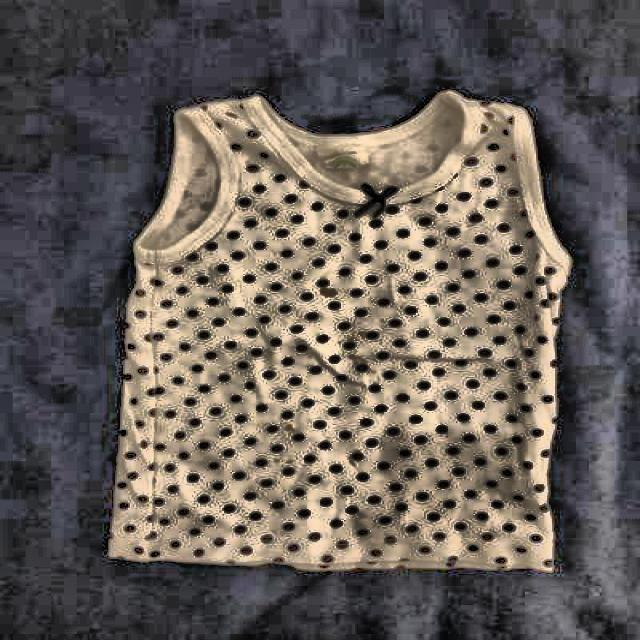clothes: (112, 90, 570, 579)
